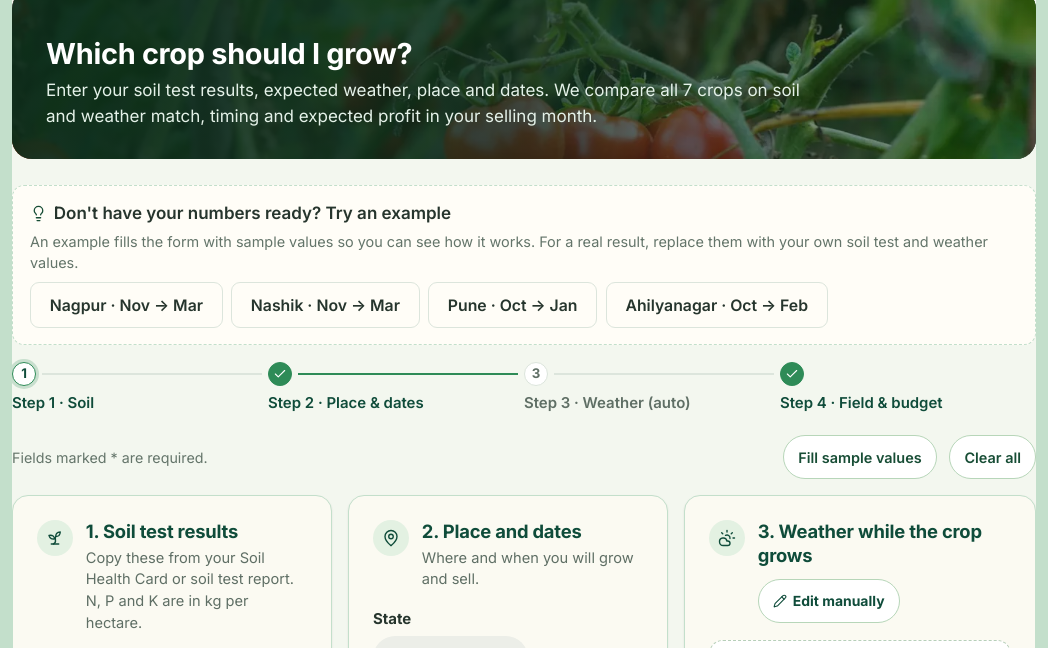
soil card: the range is the placeholder › leaves the weather fields as they were, with their own range lines
The image size is (1048, 648).
Click the button "Nashik · Nov → Mar" at (325, 305), box [231, 282, 420, 328]
(page scrolled)
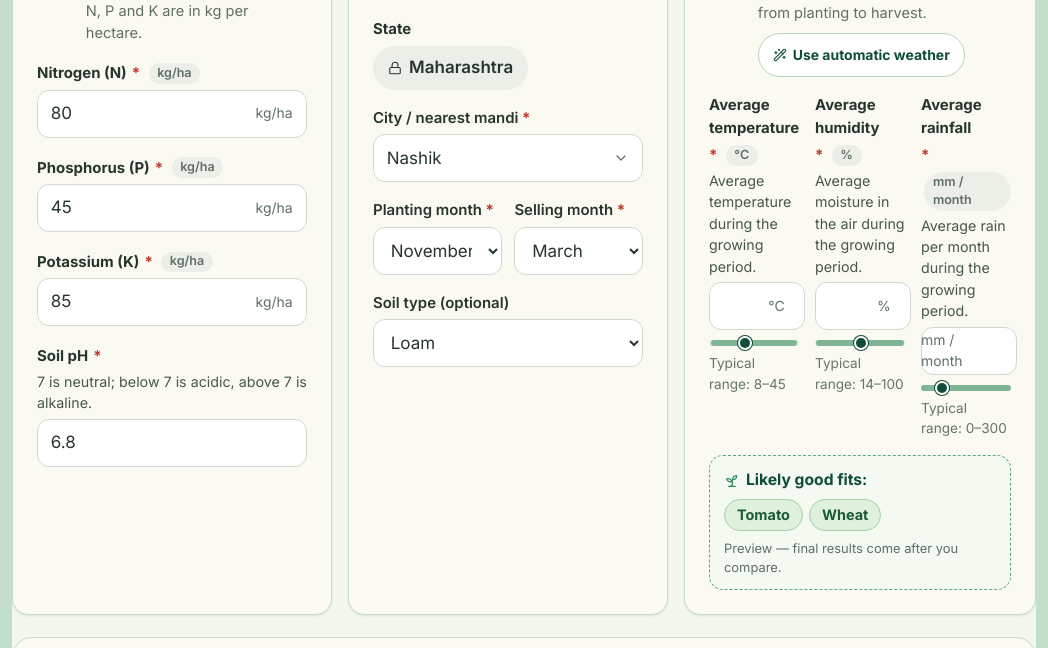
Expected: the number field with id "temperature" is shown, [709, 282, 805, 330]
Expected: the text with id "temperature-hint" reads "Typical range: 8–45", [709, 355, 786, 392]
